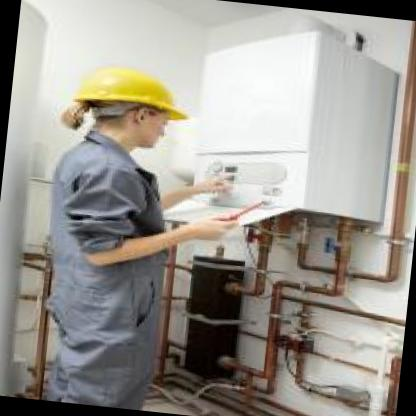bee: (50, 46, 198, 166)
hornet: (0, 48, 272, 416)
